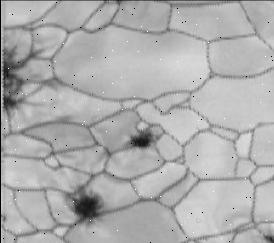good_void: (1, 42, 51, 115), (72, 185, 104, 228), (128, 128, 155, 149)
